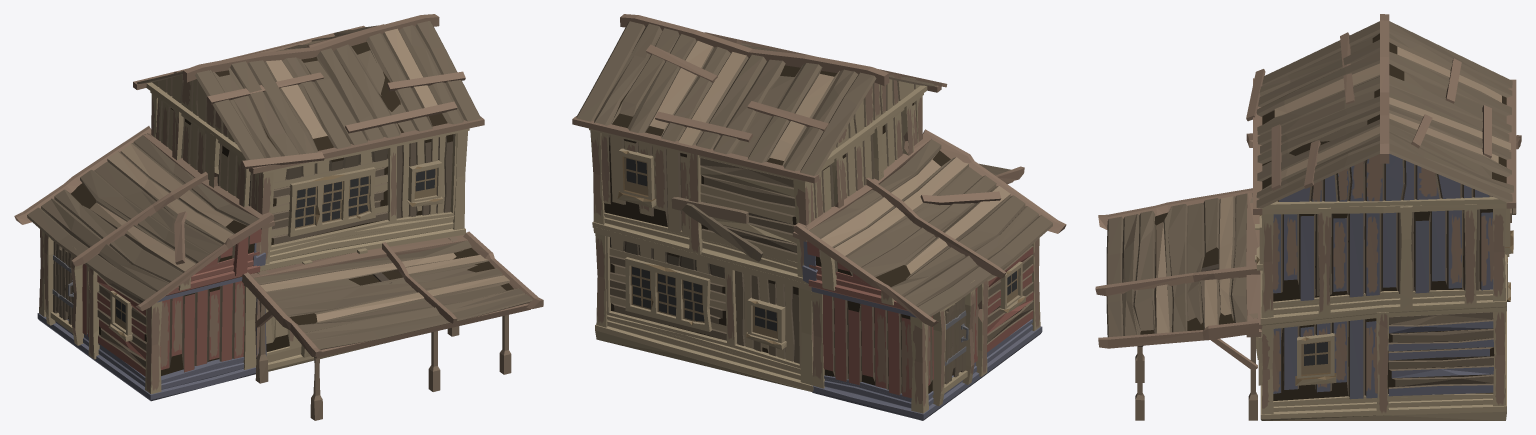
Rendered from SM_Bld_Shanty_Preset_02.glb.
The picture shows the model from 3 angles, left to right: view 1: azimuth 30°, elevation 25°; view 2: azimuth 150°, elevation 25°; view 3: azimuth 270°, elevation 25°; orthographic projection. The views are drawn at different scales.
Parts seen in each view (by area): view 1: SM_Bld_Shanty_Preset_02_part00; view 2: SM_Bld_Shanty_Preset_02_part00; view 3: SM_Bld_Shanty_Preset_02_part00.
Boxes of the visible parts, x1=… form: SM_Bld_Shanty_Preset_02_part00: x1=14, y1=14, x2=543, y2=420; SM_Bld_Shanty_Preset_02_part00: x1=572, y1=14, x2=1066, y2=420; SM_Bld_Shanty_Preset_02_part00: x1=1095, y1=14, x2=1521, y2=420.
Bounding box in the file's own units: 9.33 × 6.62 × 8.64.
Materials: 1 (1 with a texture image).
